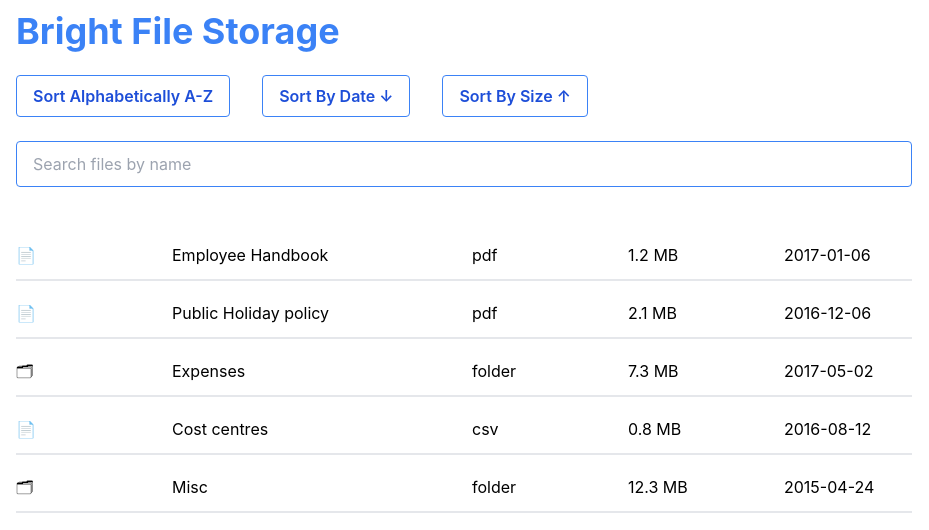
Test: Filestorage <App /> › can sort the files by name
Check: the text with test id "file-name" reads "Employee Handbook", box [172,245,328,265]
What coordinates should you click on to do the following:
click the button "Sort Alphabetically A-Z"
I would click on:
 (123, 96)
Its box is [16,75,230,117].
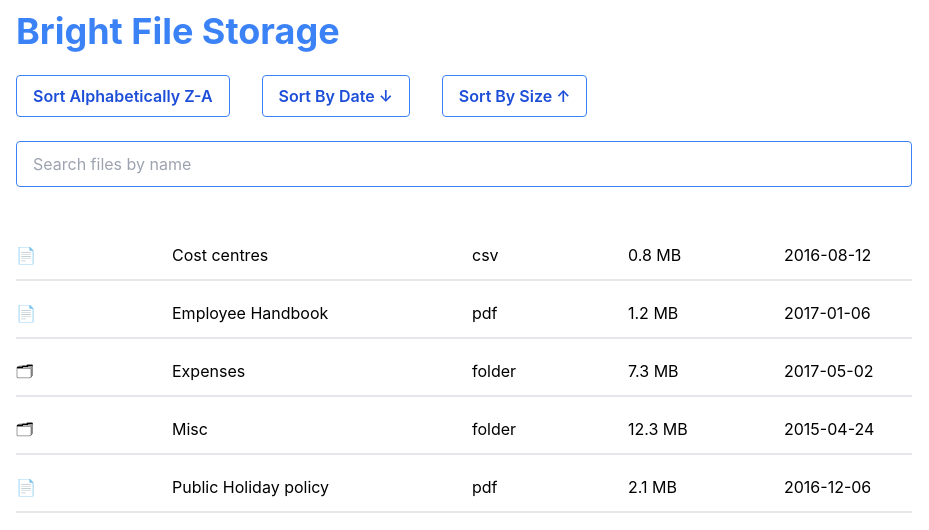
Check: the text with test id "file-name" reads "Cost centres", box [172,245,268,265]
